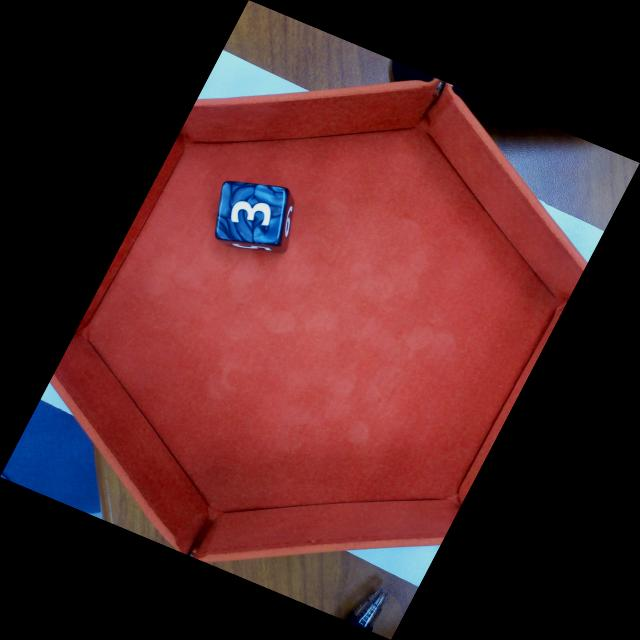dice: (213, 182, 287, 245)
